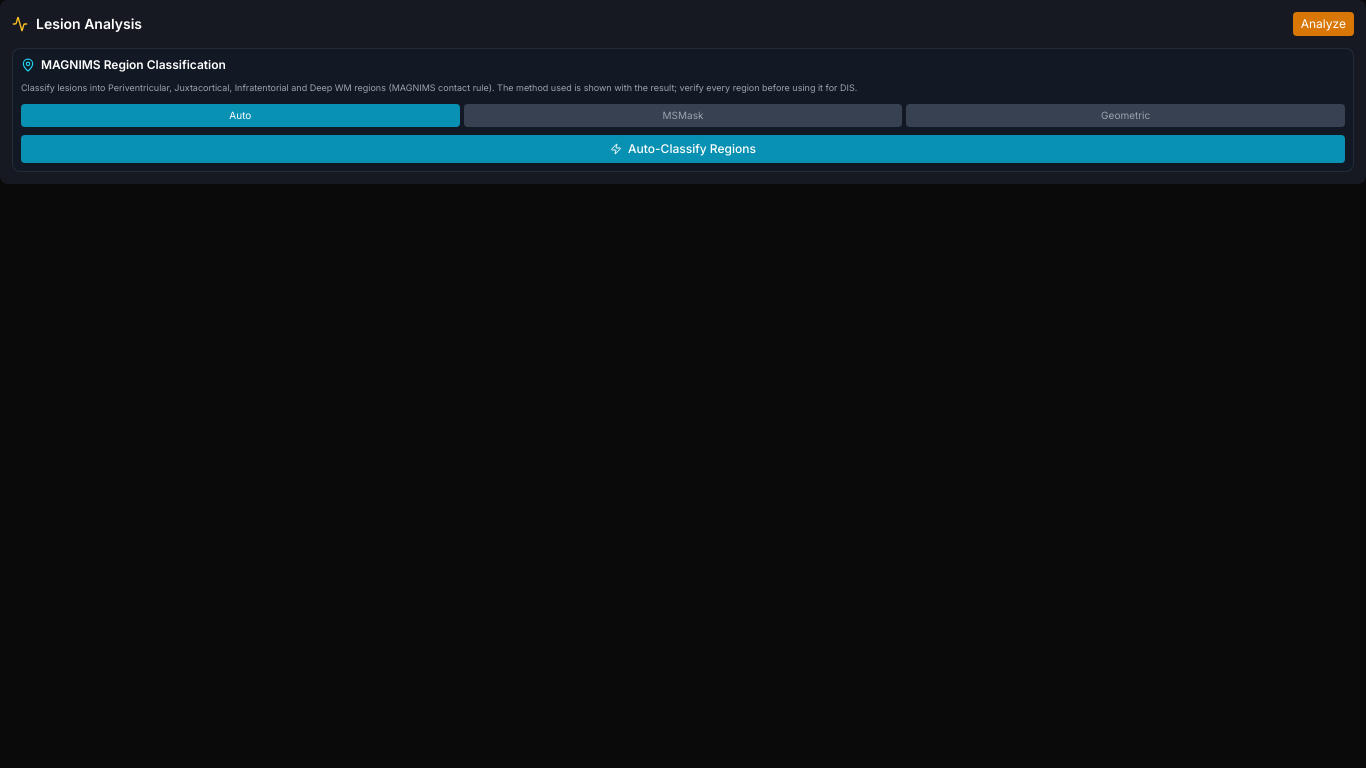
Test case: N1: one region per lesion; region corrections are listed and acknowledged › rc070 review2 a lesion with no region or two regions is listed and no confirmation is offered
Click the button "Analyze" at point(1323, 24), box [1293, 12, 1354, 36]
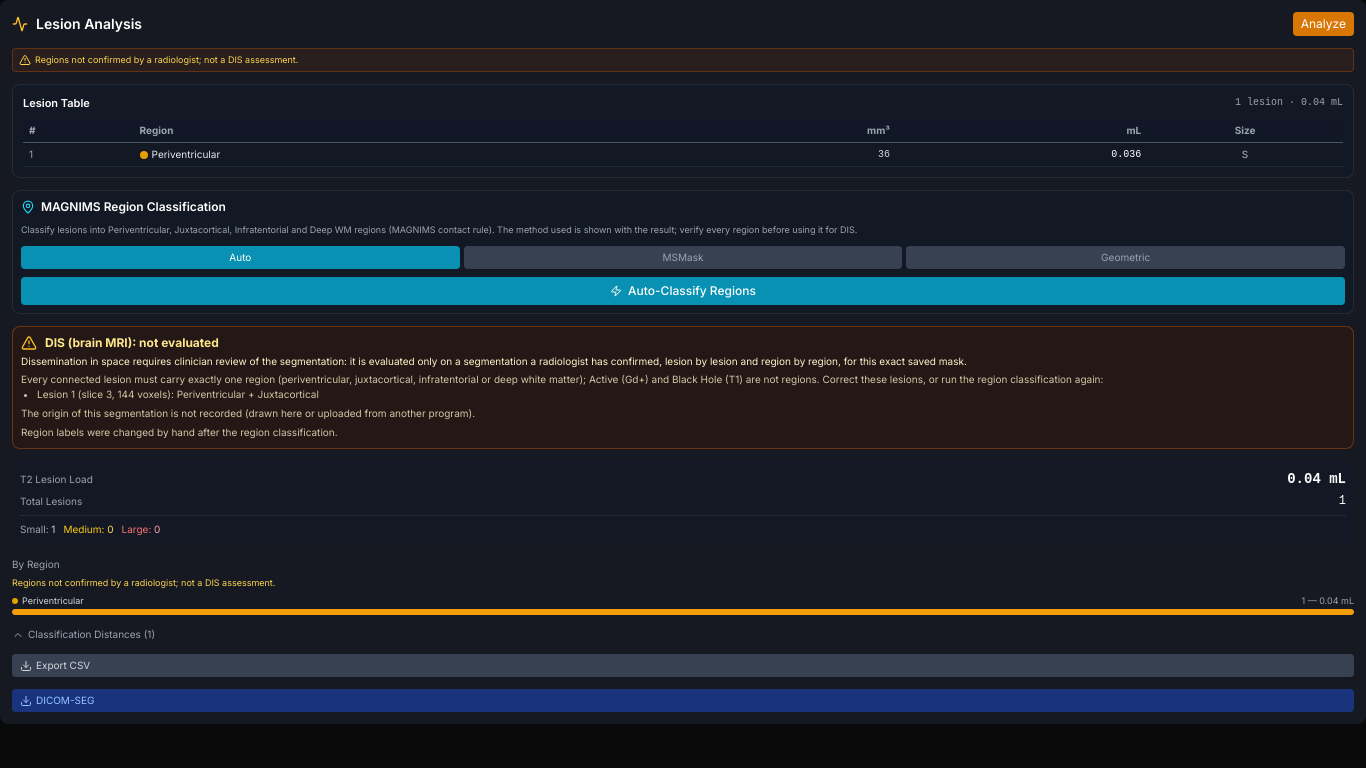
Check: the element with test id "dis-lesion-labels-invalid" shows "exactly one region", box [21, 373, 1103, 385]
Check: the list item with test id "dis-invalid-lesion" reads "Lesion 1 (slice 3, 144 voxels): Periventricular + Juxtacortical", box [37, 388, 319, 400]
